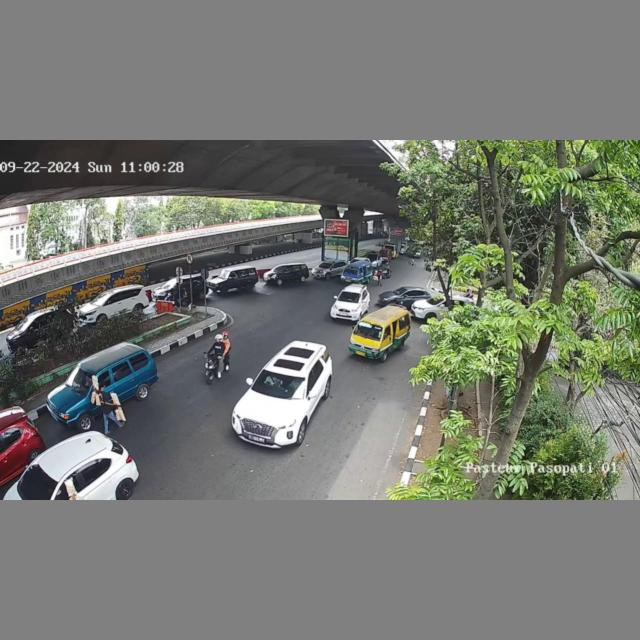windshield: (254, 370, 308, 397), (63, 368, 95, 394), (356, 320, 382, 339), (338, 293, 359, 304)
